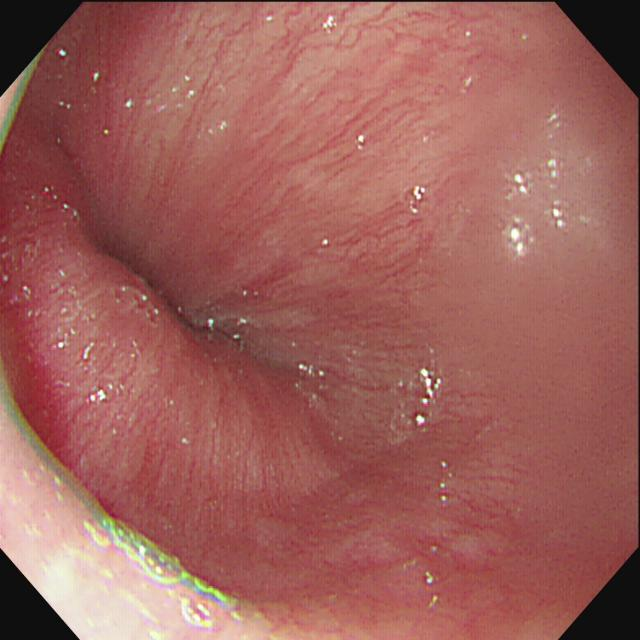T: (105, 514, 218, 635)
U: (538, 106, 573, 238), (501, 160, 537, 259), (414, 364, 442, 428), (422, 566, 440, 615), (439, 456, 456, 506), (407, 183, 427, 215), (320, 11, 339, 40)
